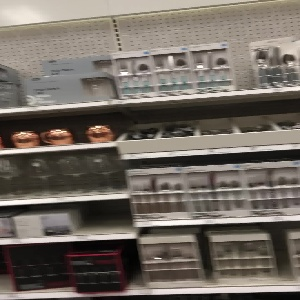void: (75, 200, 133, 234)
